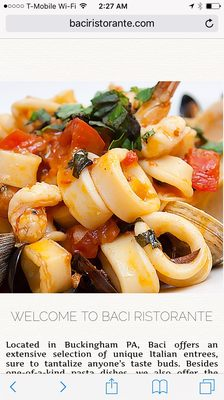pasta: (19, 238, 73, 292)
